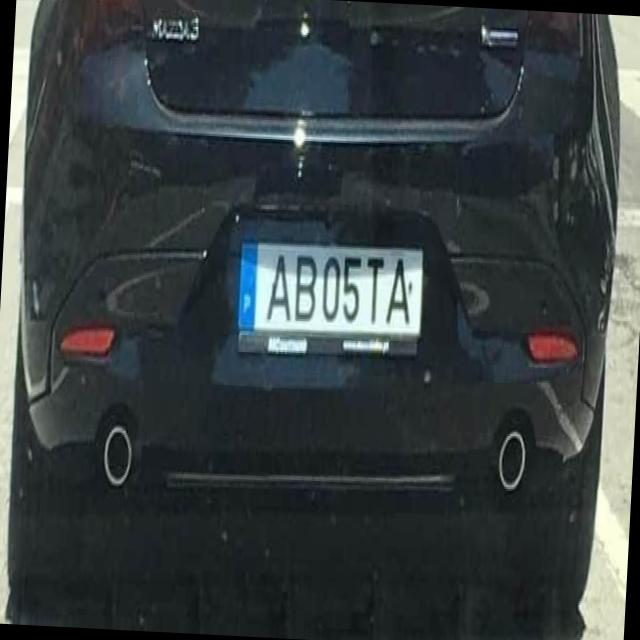portuguese-license-plates: (233, 236, 430, 344)
